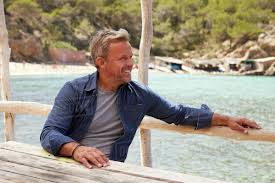white_male: (92, 24, 143, 89)
